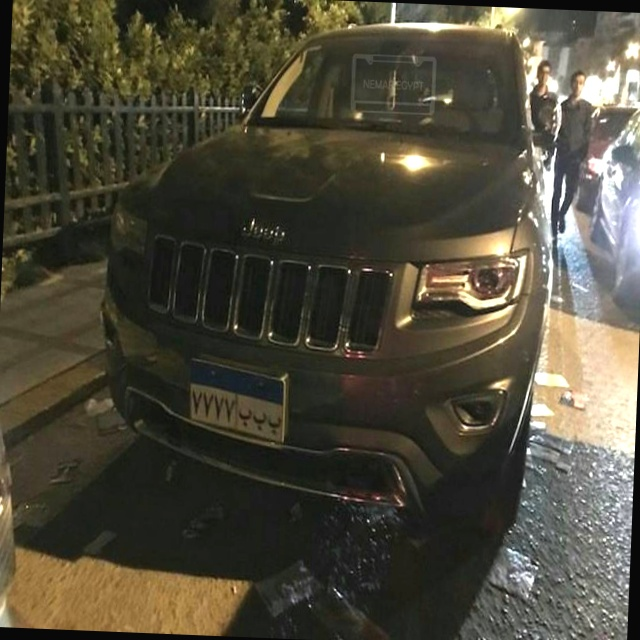License Plate: (184, 354, 291, 450)
